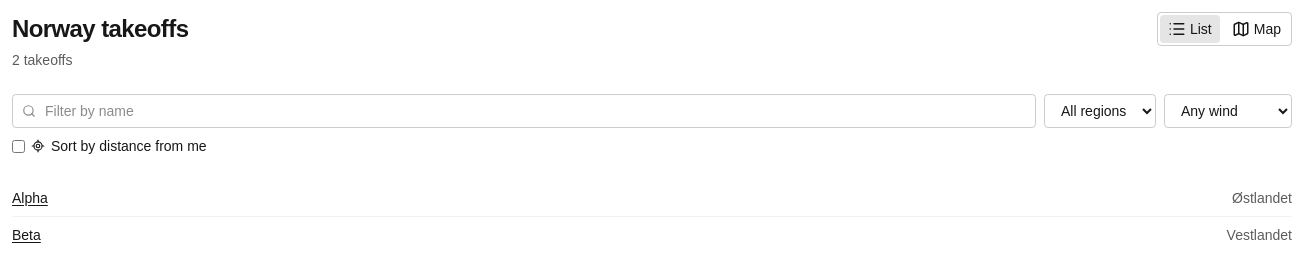
TakeoffDirectory — input-driven filtering › filters by the selected region and displays the region NAME on each row, not its bare id
This screenshot has width=1304, height=262.
Expected: the link "Alpha" is shown, [12,188,48,208]
Expected: the text "Østlandet" is shown, [1232,188,1292,208]
Step 1. Select "Vestlandet" in the dropdown named "region" → (1100, 111), box [1044,94,1156,128]
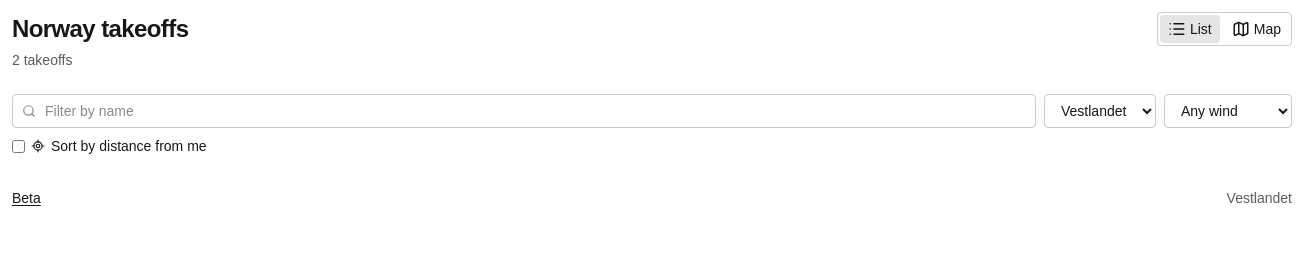
Expected: the link "Beta" is shown, [12,188,41,208]
Now the link "Alpha" is gone
Now the text "Østlandet" is gone
